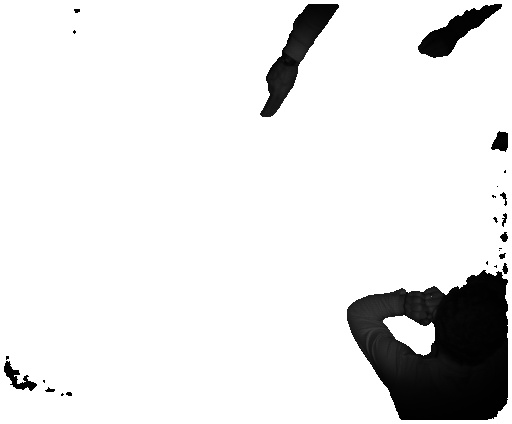fist: (401, 290, 439, 328), (416, 29, 458, 63)
hand: (256, 64, 299, 119)
